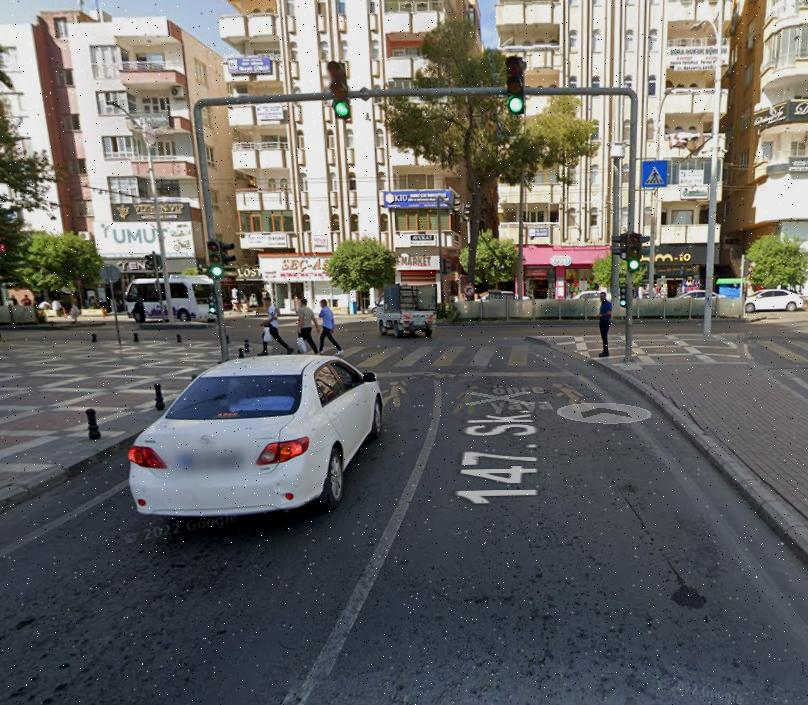greenlight: (325, 59, 354, 122), (509, 59, 526, 115), (206, 235, 227, 279), (625, 231, 644, 274)
